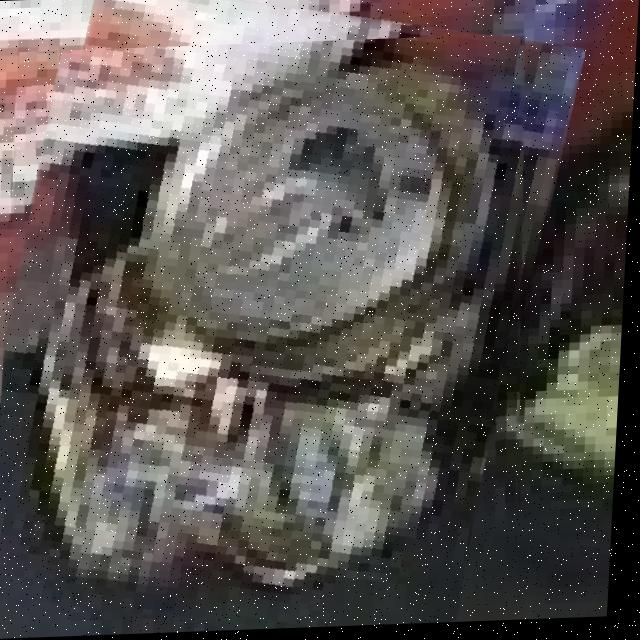litter: (3, 38, 529, 616)
